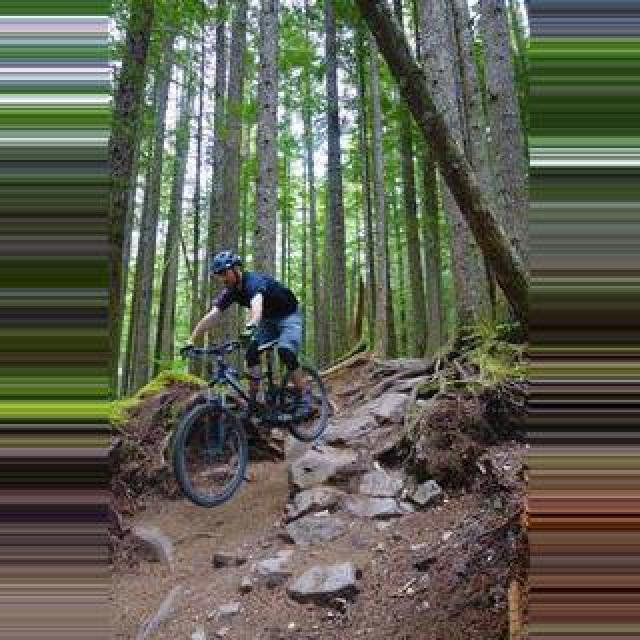MC-Bike: (188, 252, 302, 424)
Person: (170, 338, 334, 508)
